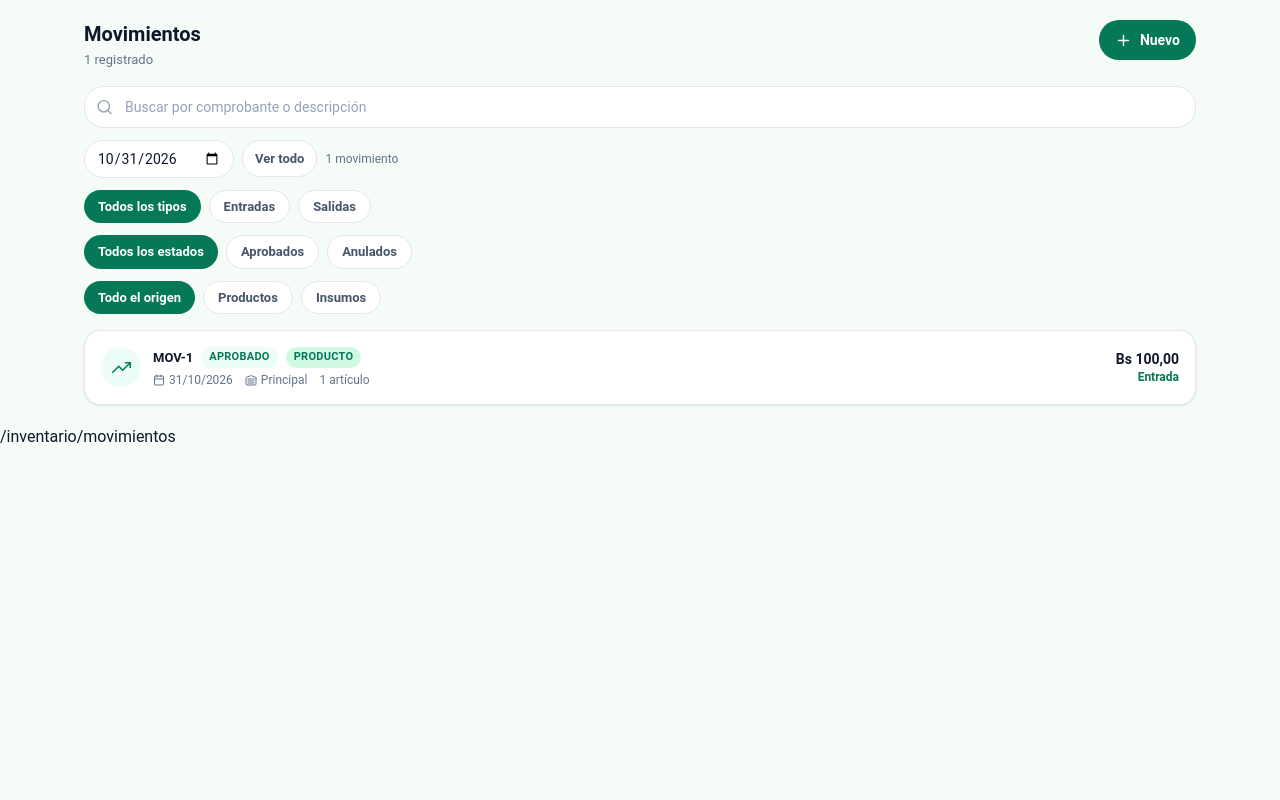
Test: Nuevo movimiento: sólo entrada y salida › el tipo ofrece Entrada y Salida, nada más
expect the text "MOV-1" is shown: met, box [153, 348, 193, 367]
Click the button "Nuevo" at [1147, 40], box [1099, 20, 1196, 60]
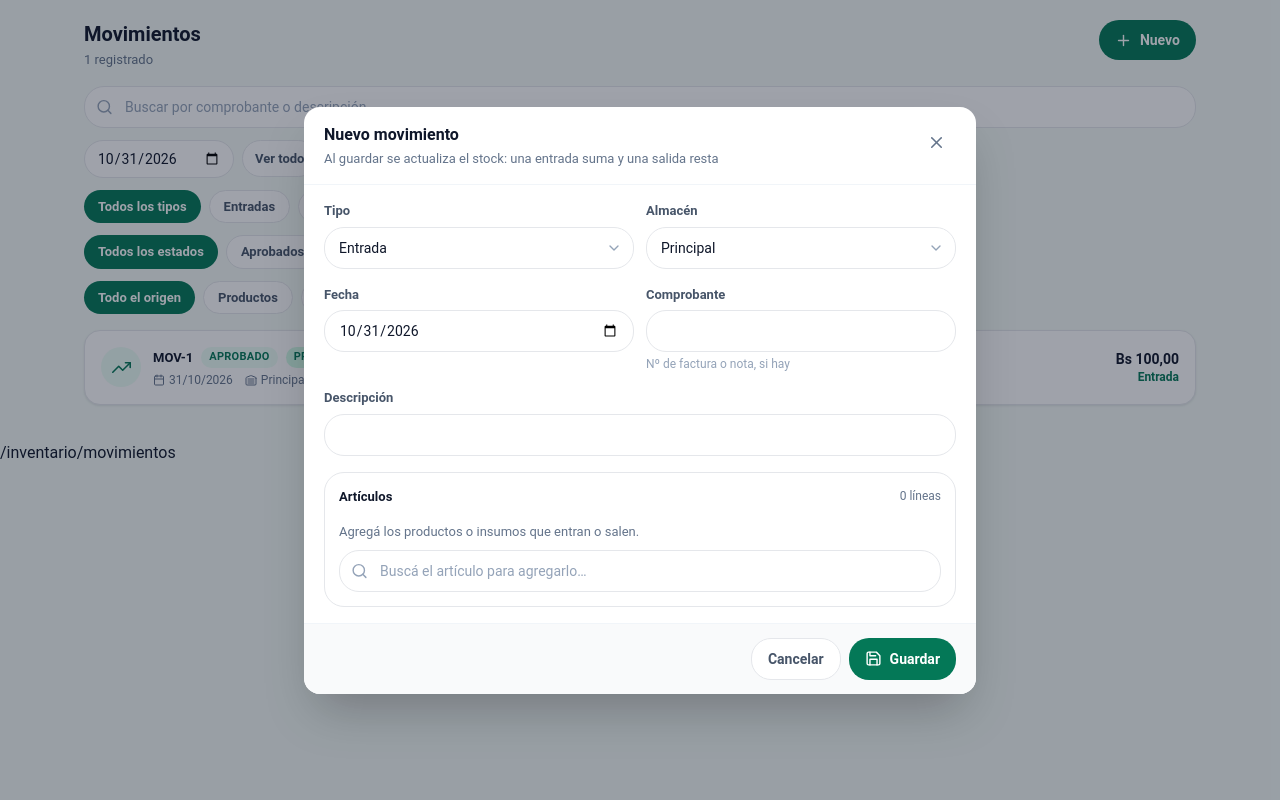
expect the dropdown named "Buscar artículo" is enabled: met, box [339, 550, 941, 592]
